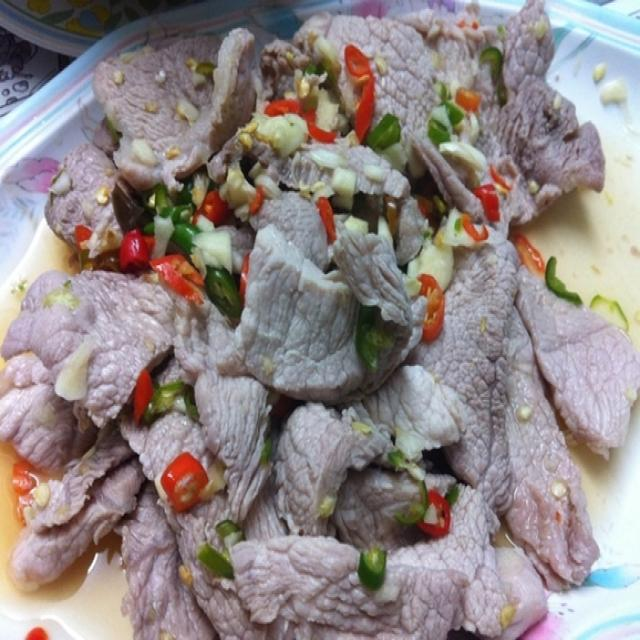猪肉菜式: (21, 15, 629, 631)
